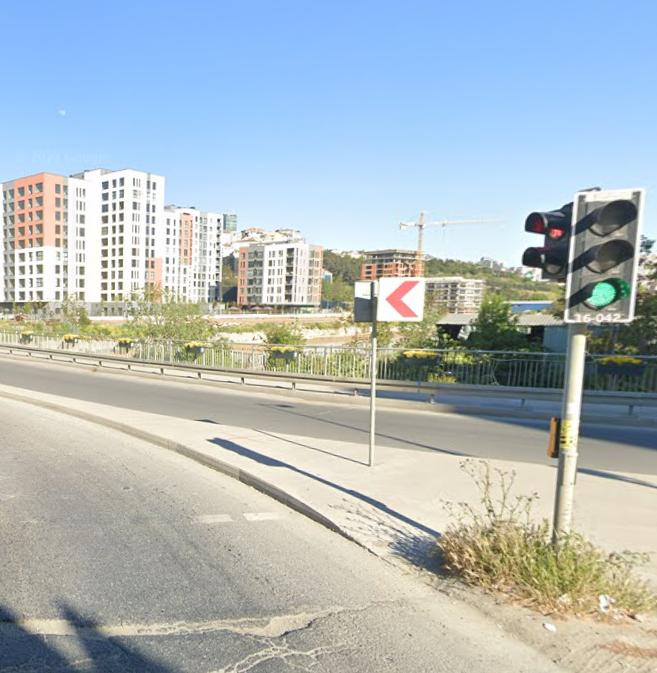greenlight: (561, 183, 649, 326)
